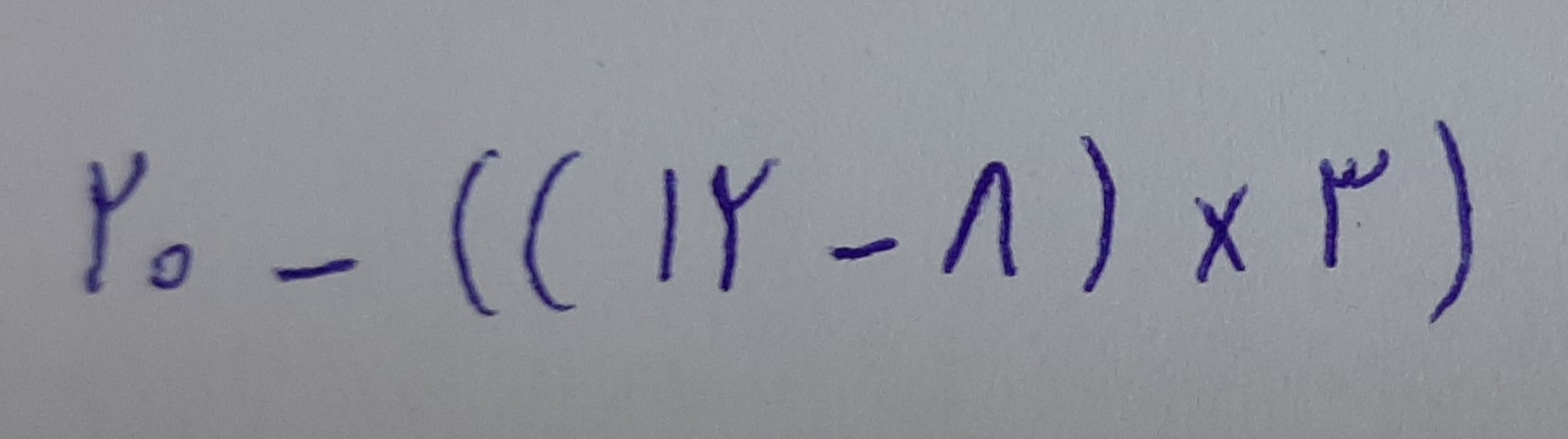character: (1425, 120, 1478, 327), (77, 149, 149, 293), (941, 158, 1020, 281), (709, 155, 774, 297), (448, 147, 501, 320), (1320, 145, 1391, 272), (523, 149, 577, 313), (1080, 134, 1118, 296), (1195, 184, 1253, 283), (654, 167, 681, 285), (270, 256, 356, 286), (147, 241, 194, 295), (824, 238, 899, 263)
